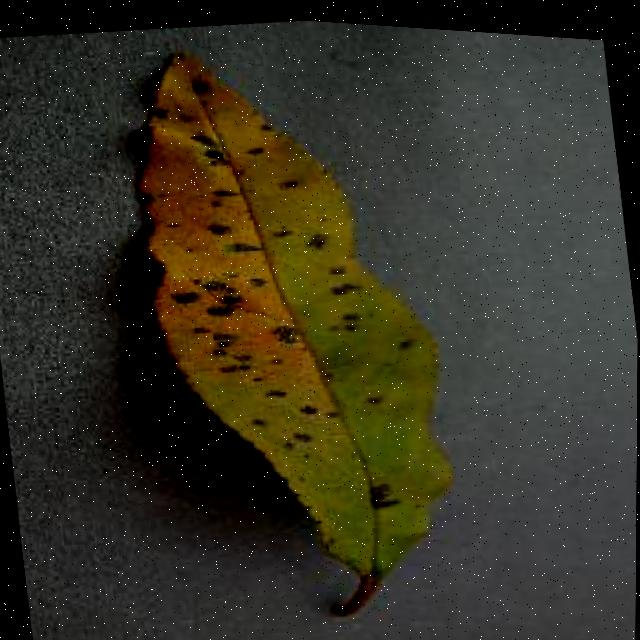Bacterial_spot: (102, 7, 495, 640)
